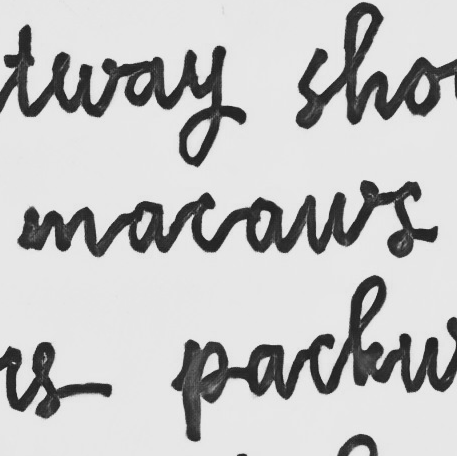a: (243, 194, 287, 257), (123, 199, 169, 256)
c: (187, 189, 230, 256)
m: (19, 202, 99, 259)
s: (384, 177, 432, 260)
w: (301, 178, 379, 257)
